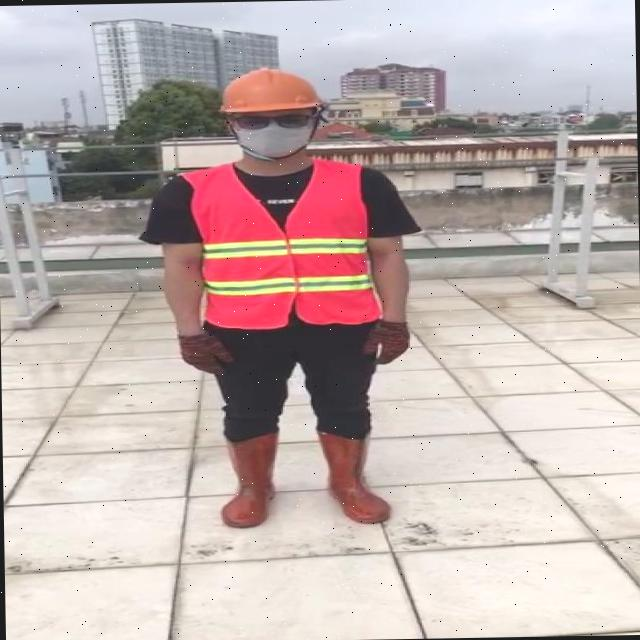boots: (312, 429, 394, 523), (216, 429, 280, 528)
